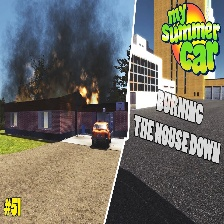fire: (71, 74, 103, 109)
smoke: (7, 1, 116, 87)
